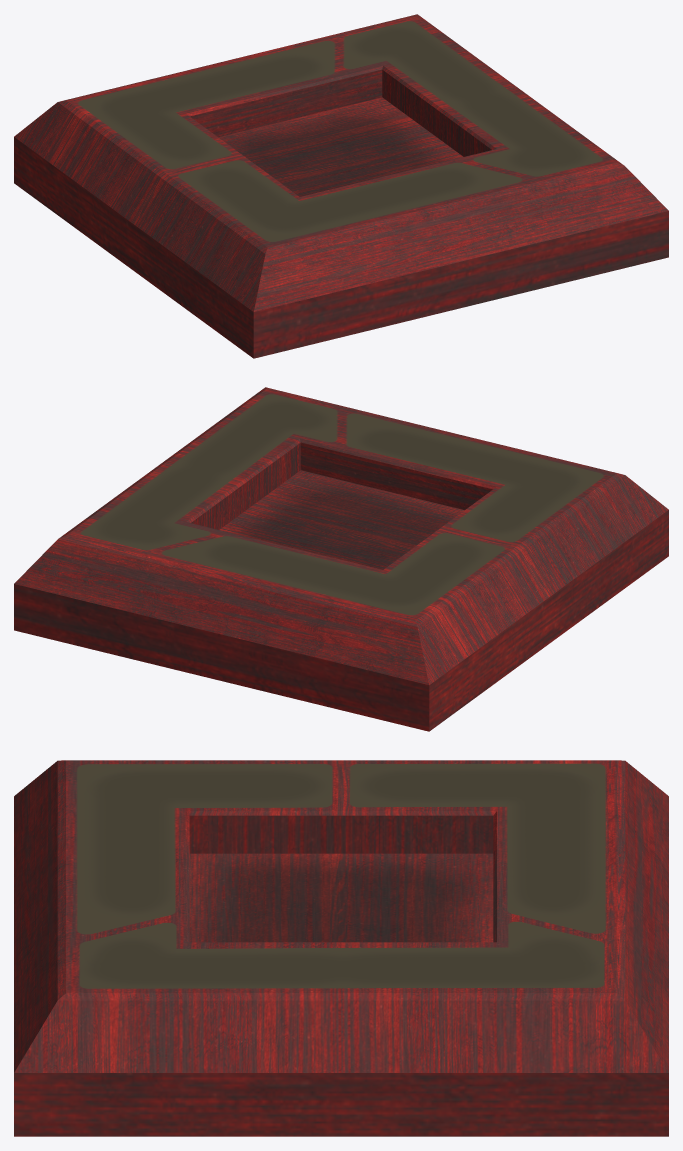
The model's file is CastleButton.fbx.
The picture shows the model from 3 angles, top to bottom: view 1: azimuth 30°, elevation 25°; view 2: azimuth 150°, elevation 25°; view 3: azimuth 270°, elevation 25°; orthographic projection. The views are drawn at different scales.
Visible parts, largest first — view 1: CastleButton; view 2: CastleButton; view 3: CastleButton.
Part boxes in pixels (x1,y1,x2,y2): CastleButton: [14, 14, 668, 358]; CastleButton: [14, 387, 668, 731]; CastleButton: [14, 760, 668, 1136].
Bounding box in the file's own units: 200 × 40.96 × 200.
